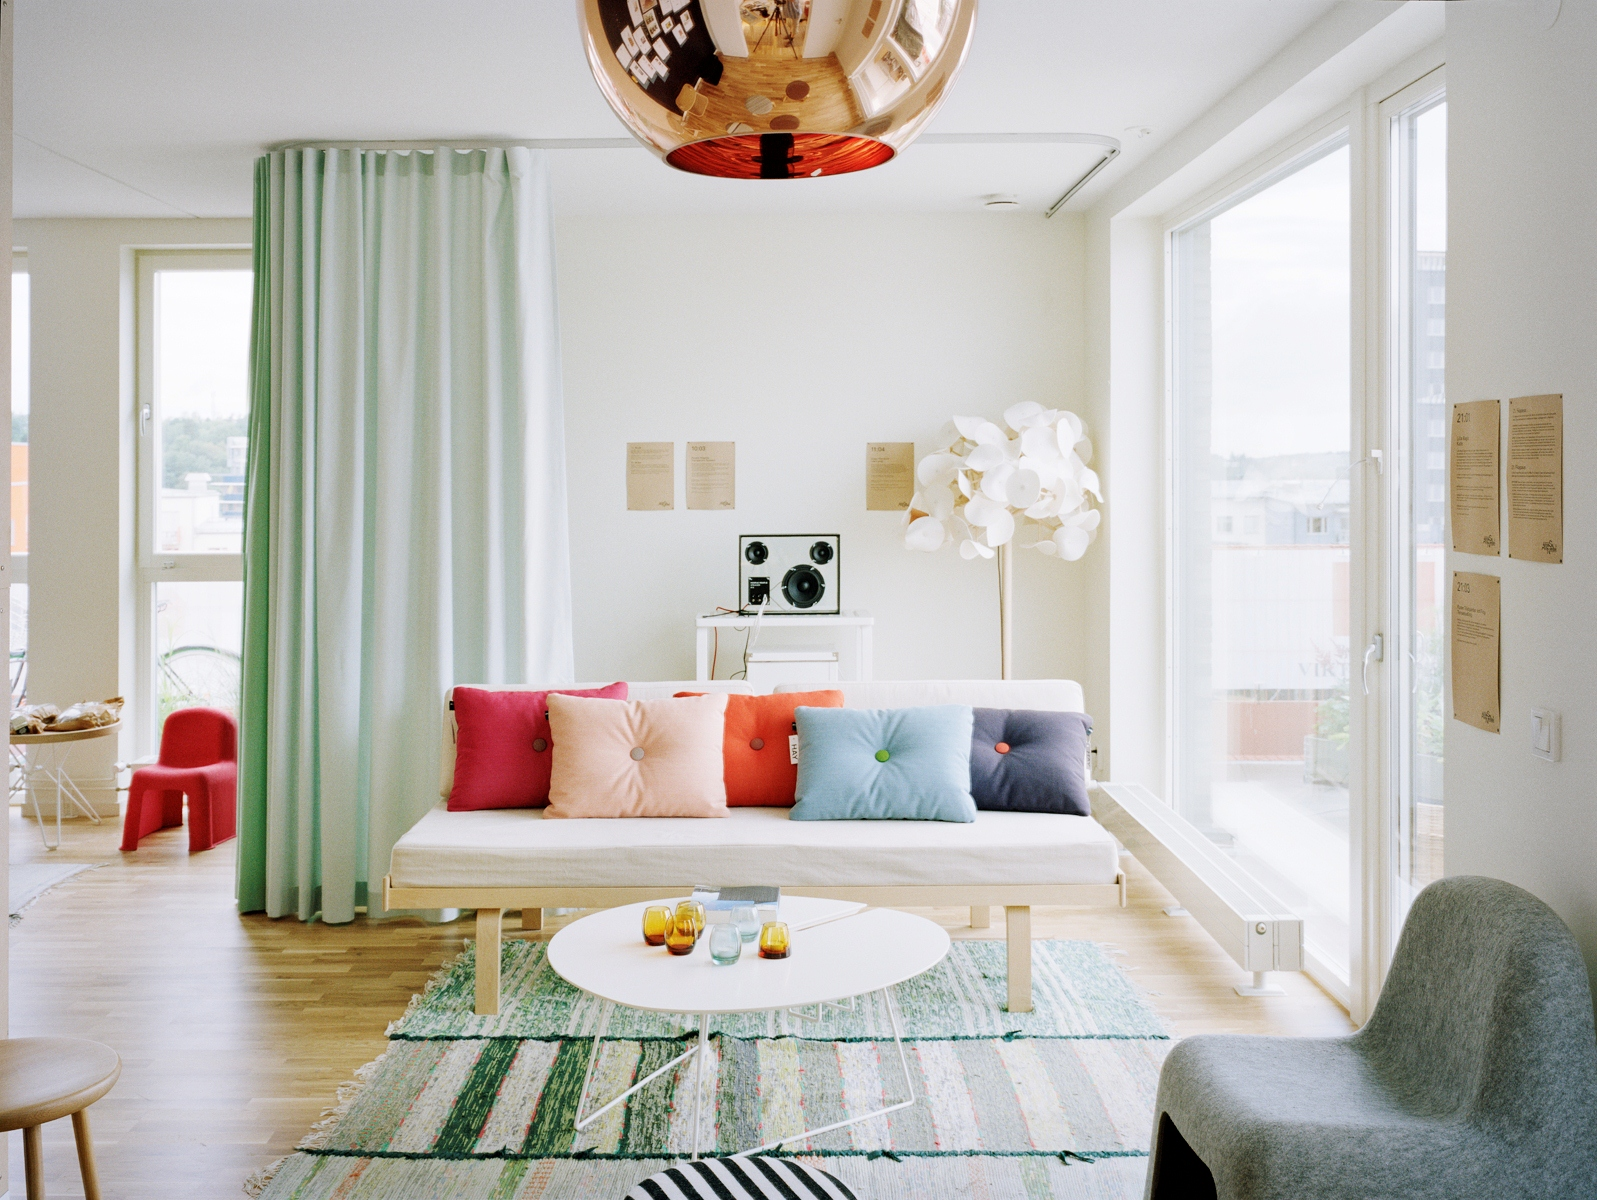biru: (800, 705, 976, 816), (984, 707, 1089, 817)
merah: (129, 708, 232, 845), (459, 686, 552, 816)
orange: (727, 693, 795, 805)
pink: (550, 695, 727, 812)
putih: (548, 892, 949, 1005), (948, 426, 1099, 550)
